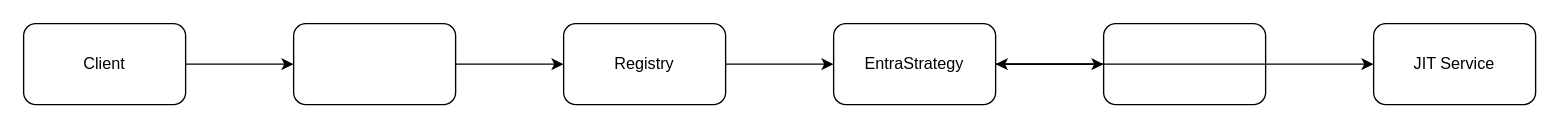
Image size: 1559x128. Some labels were removed from this diagram. Here are the shapes that lost their labels. From the top down, the centre of each, then its label:
[374,63]: sso-dynamic
[1184,63]: Entra IdP
